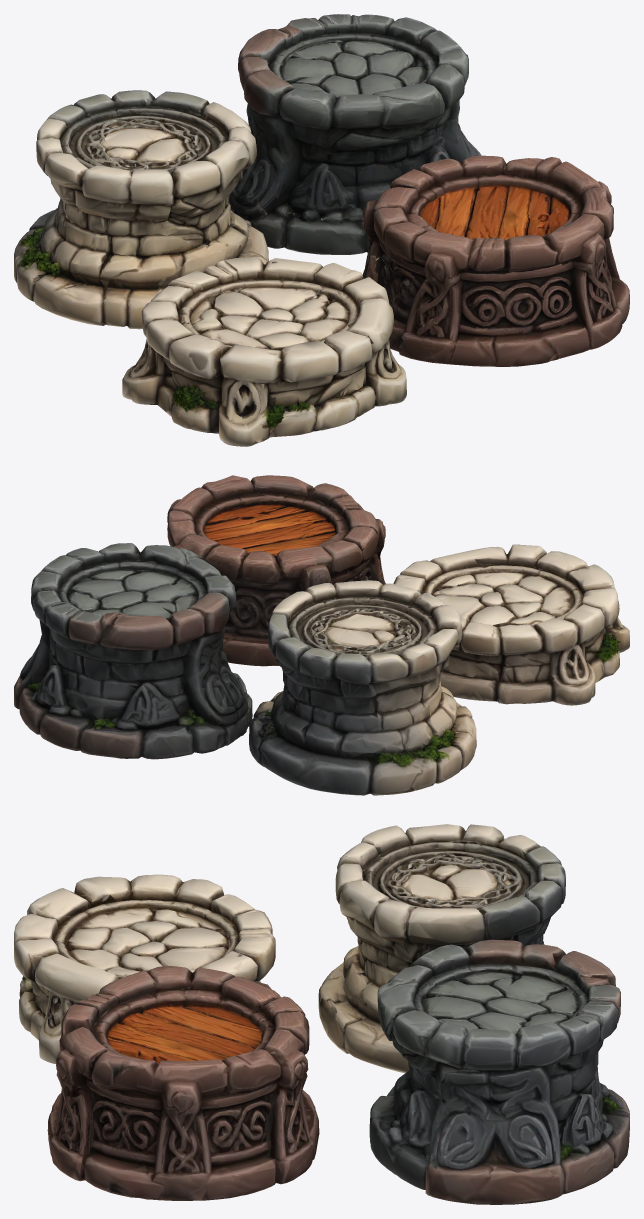
Rendered from Bases_Pedestals_Minis.glb.
3 views of the same model, one above another, from view 1: azimuth 30°, elevation 25°; view 2: azimuth 150°, elevation 25°; view 3: azimuth 270°, elevation 25° (orthographic). The views are drawn at different scales.
Visible parts, largest first — view 1: Bases_Pedestals_Minis; view 2: Bases_Pedestals_Minis; view 3: Bases_Pedestals_Minis.
Part boxes in pixels (x1,y1,x2,y2): Bases_Pedestals_Minis: [14, 14, 629, 446]; Bases_Pedestals_Minis: [14, 475, 629, 795]; Bases_Pedestals_Minis: [14, 824, 629, 1204].
Size of the model in its own units: 1.85 by 0.5316 by 1.9.
1 material, 1 textured.
